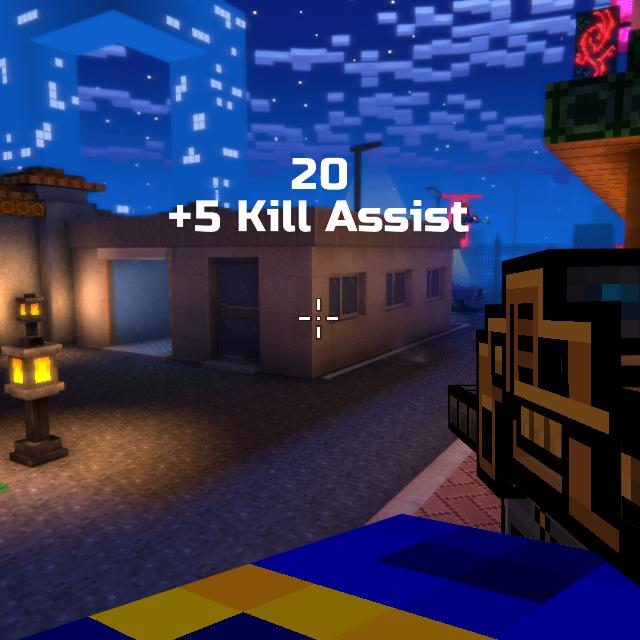Enemy: (453, 202, 477, 241)
